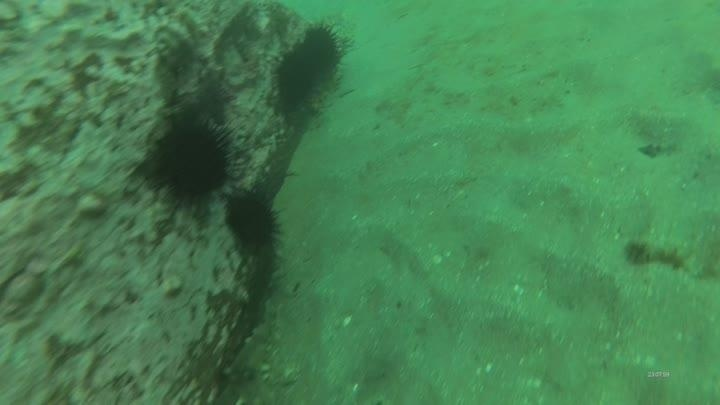echinus: (143, 113, 238, 214), (221, 187, 286, 257), (271, 45, 323, 112), (296, 20, 351, 80)
holothurian: (222, 310, 283, 405), (622, 232, 706, 280)
